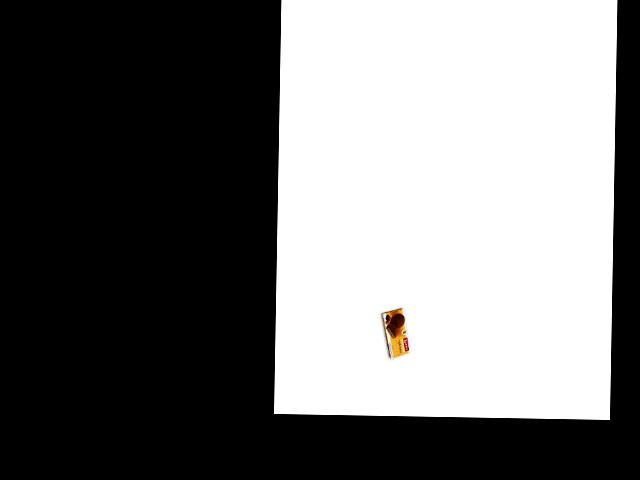chocolate: (385, 304, 410, 367)
